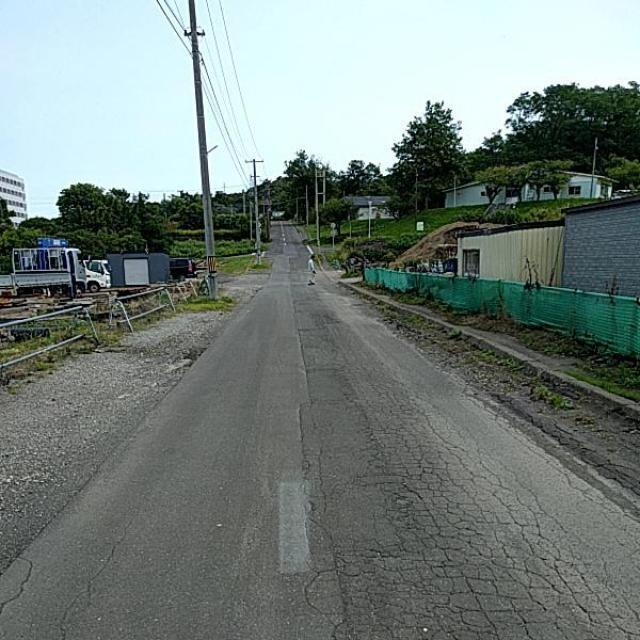Retak Buaya: (320, 406, 640, 640)
